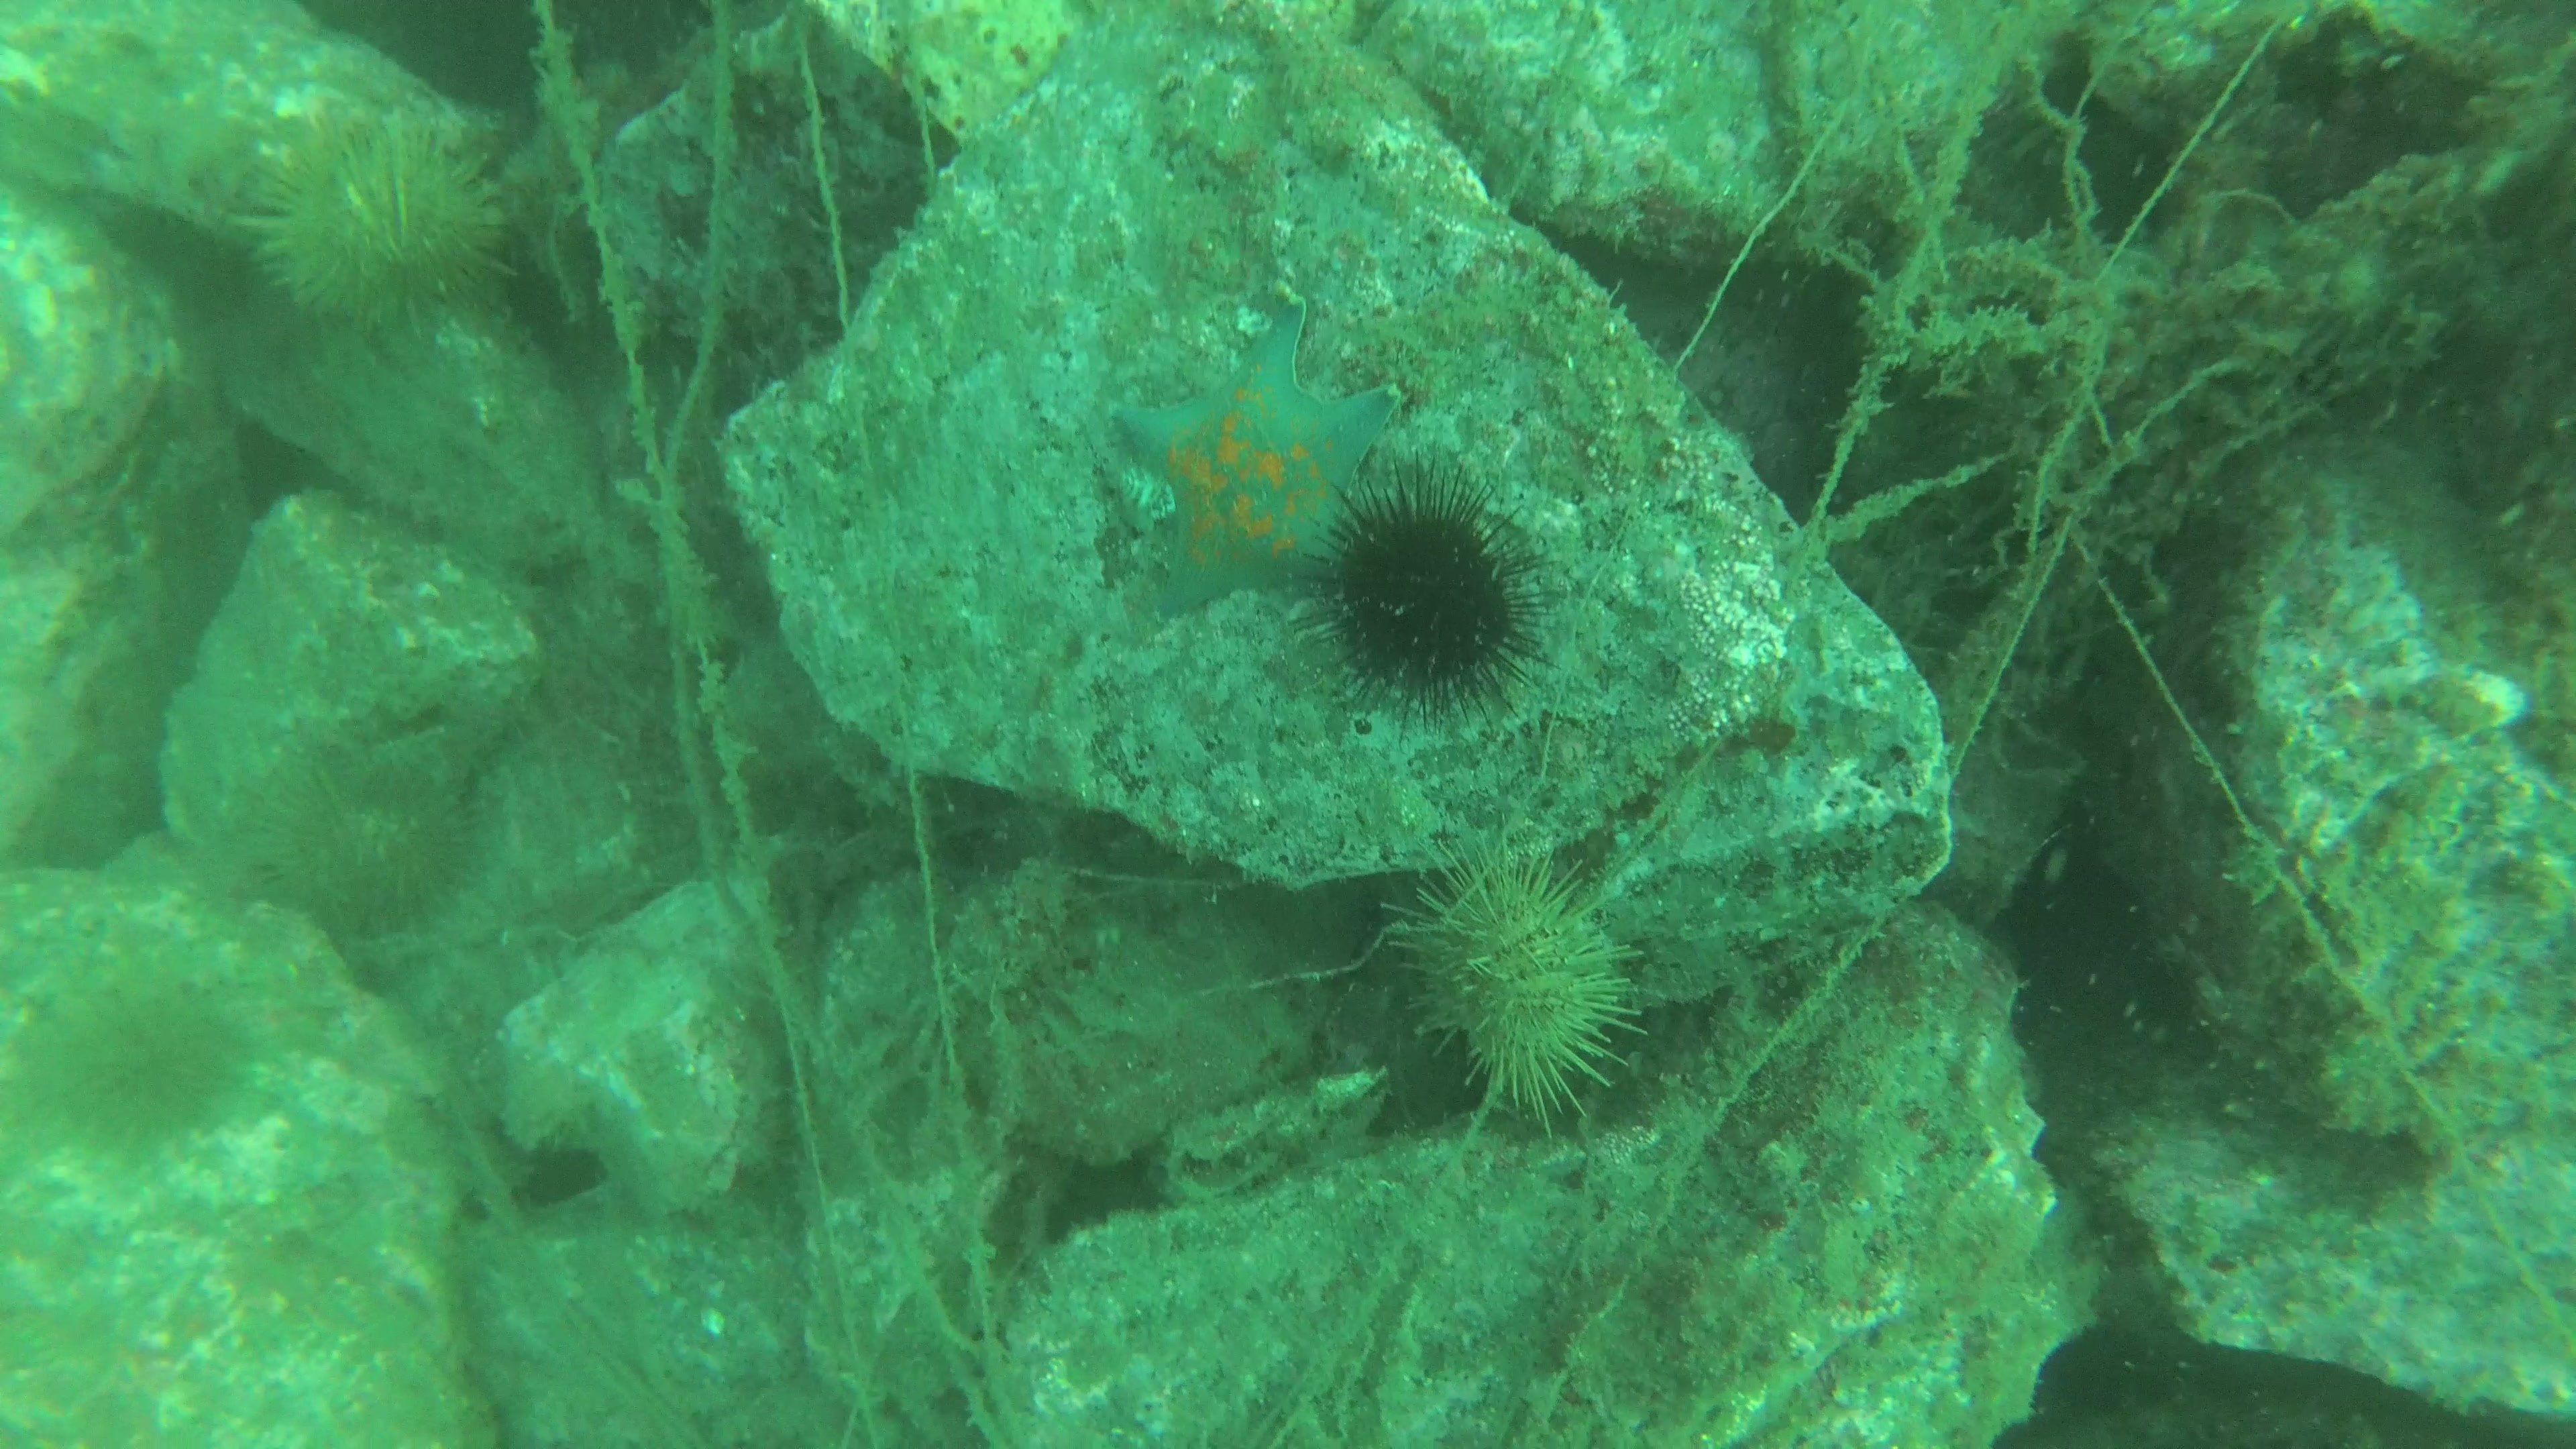echinus: (1375, 839, 1661, 1143), (232, 126, 552, 357), (1306, 453, 1557, 734), (18, 947, 274, 1185), (264, 748, 471, 954)
starfish: (1102, 285, 1417, 621)
